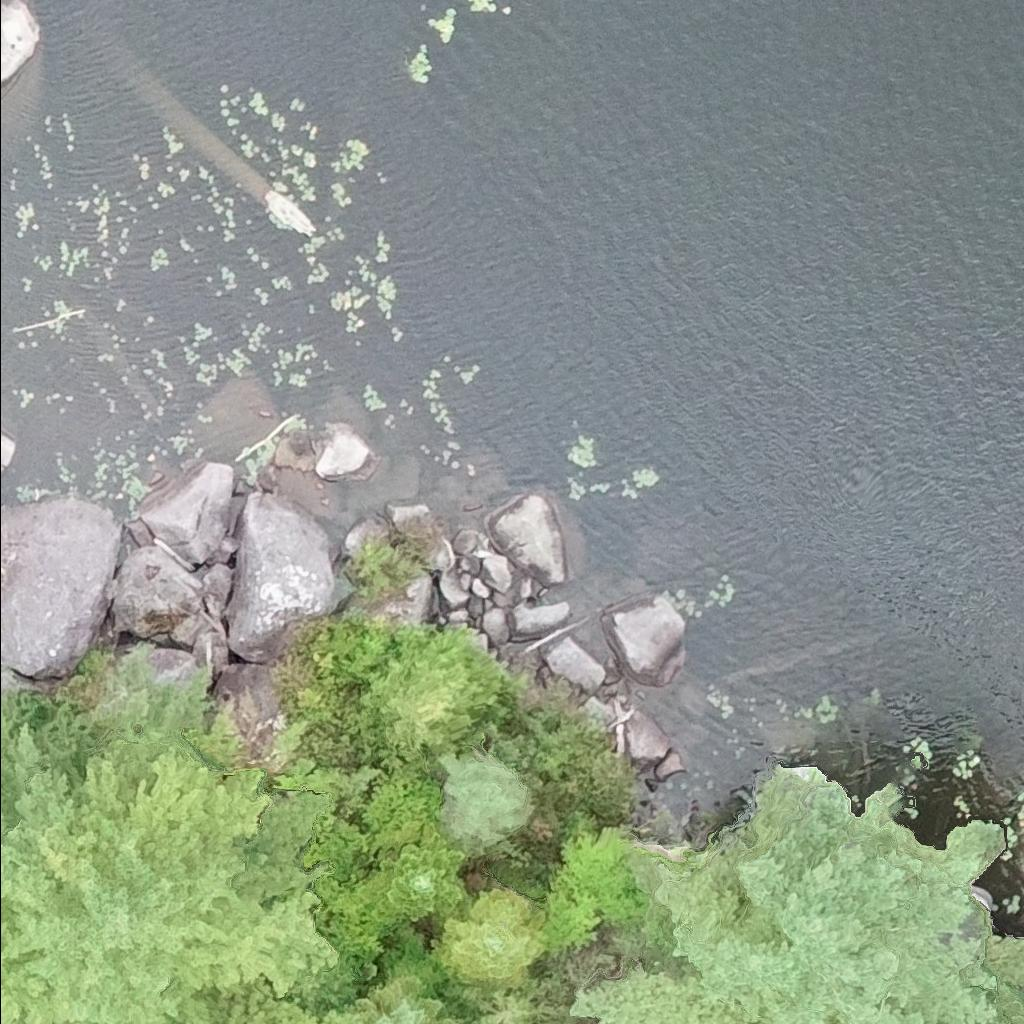crown: (0, 652, 365, 1023), (570, 766, 1005, 1023), (358, 625, 511, 775), (351, 821, 470, 929), (429, 885, 548, 989), (437, 751, 534, 858), (336, 965, 467, 1023), (443, 973, 565, 1023)
